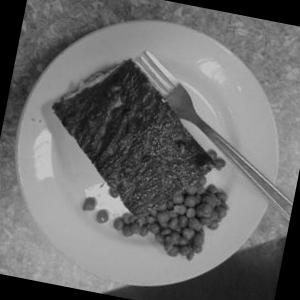casserole: (21, 36, 262, 268)
